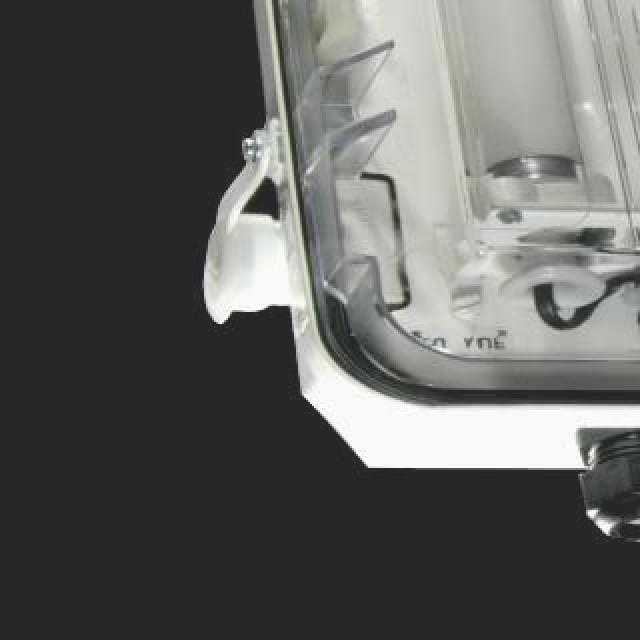fluorescent tube: (346, 0, 598, 274), (540, 0, 640, 268)
